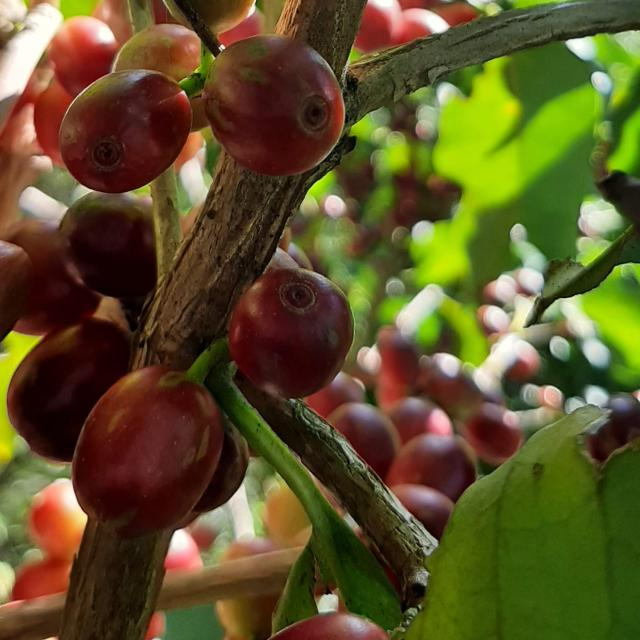red: (71, 366, 223, 538), (202, 33, 345, 175), (6, 318, 129, 462), (228, 267, 354, 399), (58, 68, 191, 193), (6, 218, 100, 335), (59, 191, 156, 298), (49, 15, 119, 97)
